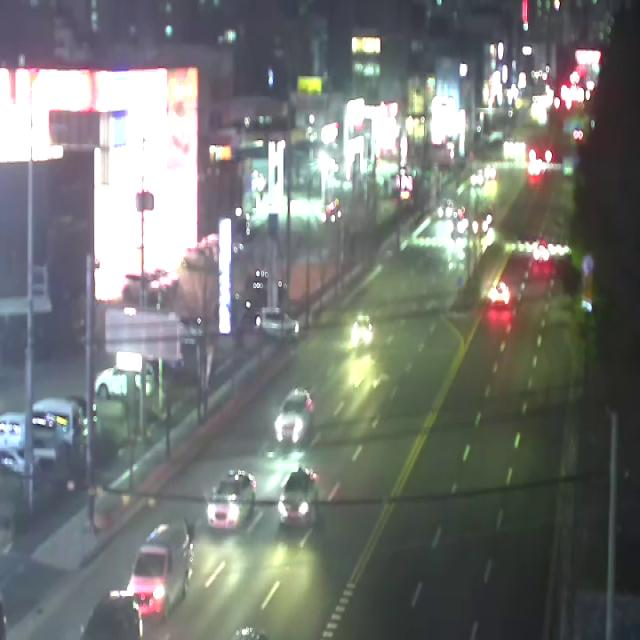Car: (127, 524, 190, 618), (80, 591, 142, 640), (208, 470, 256, 532), (277, 467, 318, 525), (274, 388, 314, 443), (255, 306, 299, 341), (351, 314, 374, 345), (491, 282, 510, 304), (533, 240, 550, 262)
